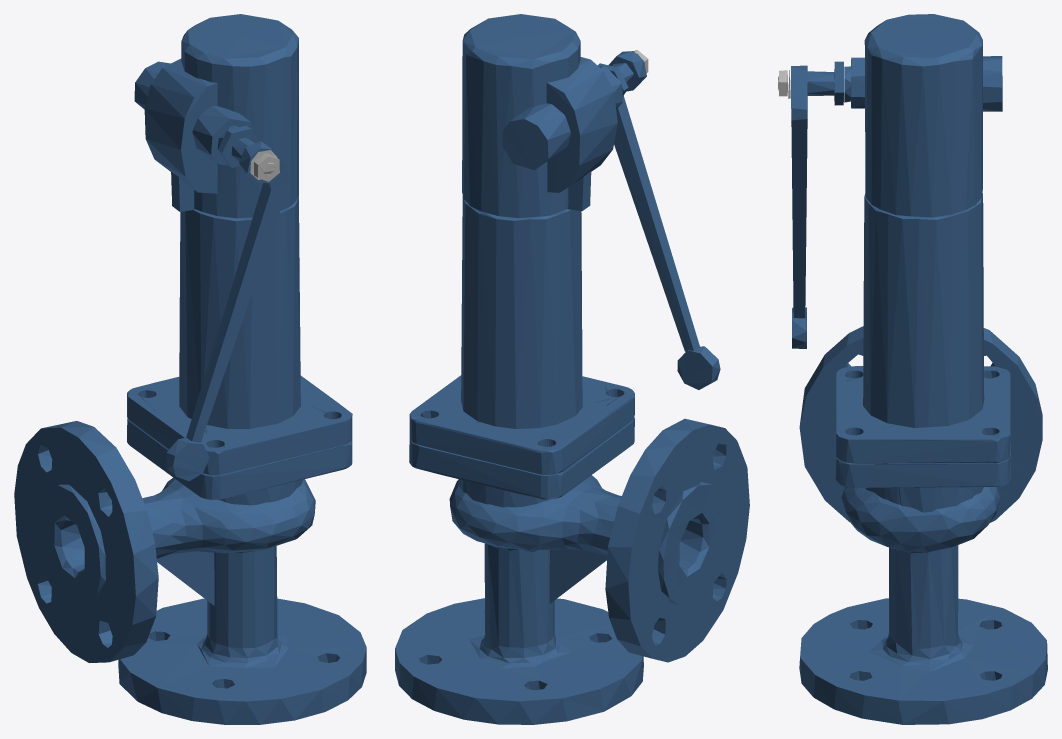
The model's file is LowPollyValve.fbx.
The picture shows the model from 3 angles, left to right: view 1: azimuth 30°, elevation 25°; view 2: azimuth 150°, elevation 25°; view 3: azimuth 270°, elevation 25°; orthographic projection.
Parts seen in each view (by area): view 1: n01, Object011.001; view 2: n01, Object011.001; view 3: n01, Object011.001.
Part boxes in pixels (x1,y1,x2,y2): n01: (14, 375, 366, 724); Object011.001: (134, 14, 300, 481); n01: (395, 375, 749, 724); Object011.001: (461, 14, 720, 428); n01: (799, 326, 1047, 724); Object011.001: (778, 14, 1002, 427).
Bounding box in the file's own units: 128 × 153 × 336.
